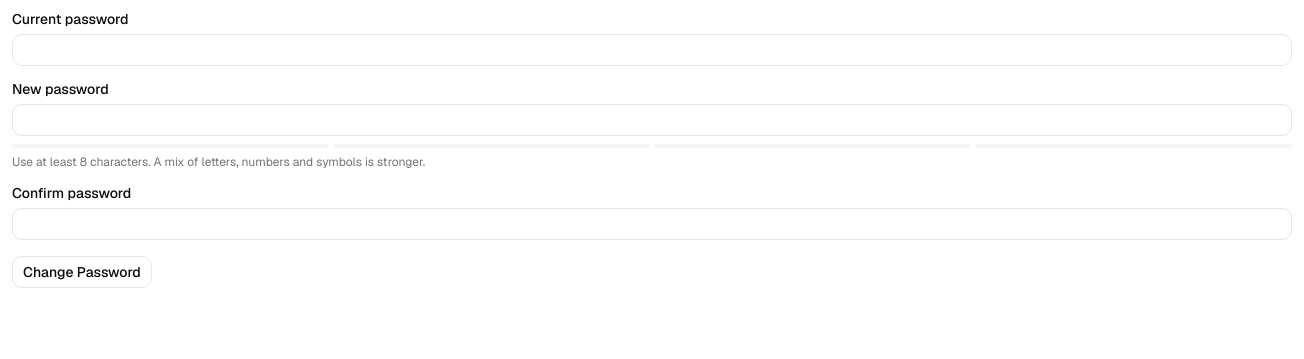
Test case: ChangePasswordForm (us-11) › clears the new password after it is changed
Step 1. Type "oldpassword" into the password field labelled "Current password" → x=652, y=50, box [12,34,1292,66]
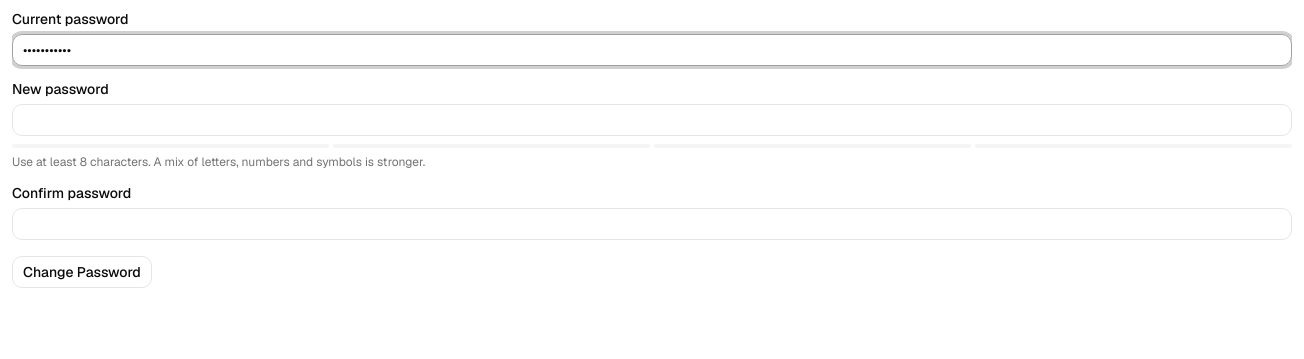
Step 2. Type "newpassword1" into the password field labelled "New password" → x=652, y=120, box [12,104,1292,136]
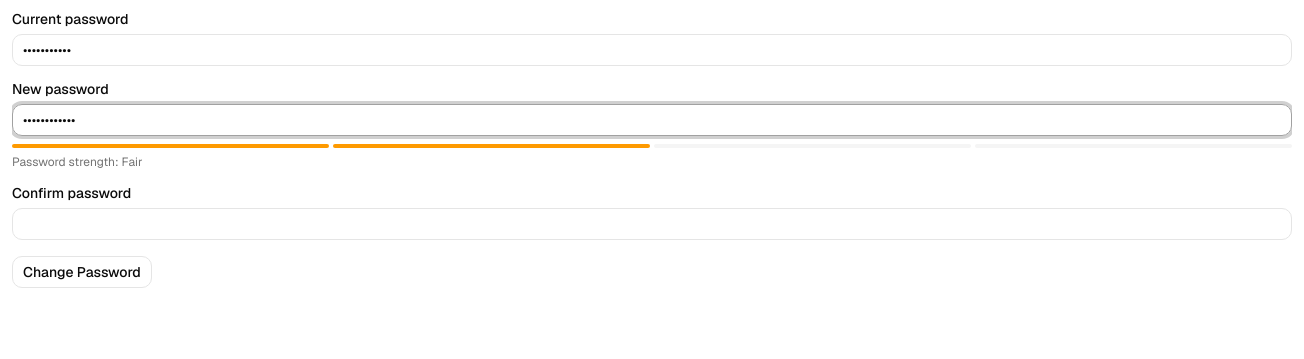
Step 3. Type "newpassword1" into the password field labelled "Confirm password" → x=652, y=224, box [12,208,1292,240]
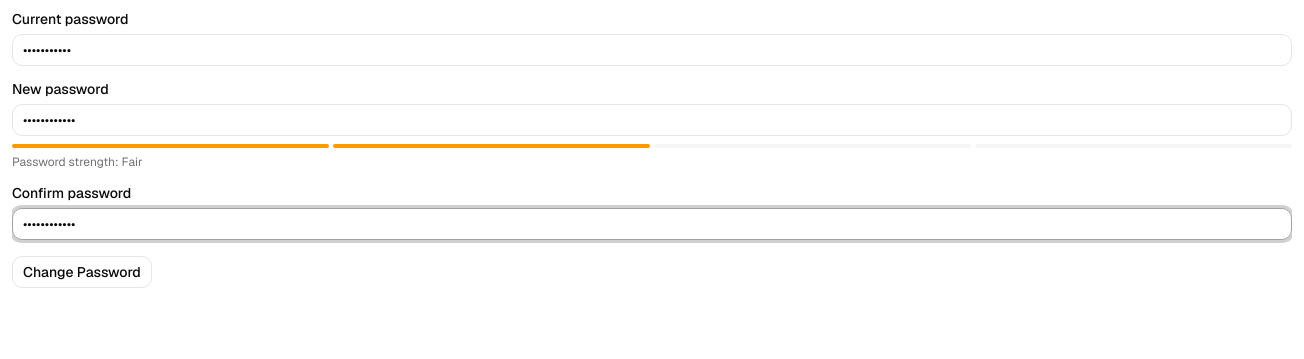
Step 4. Click the button "Change Password" → x=82, y=272, box [12,256,152,288]
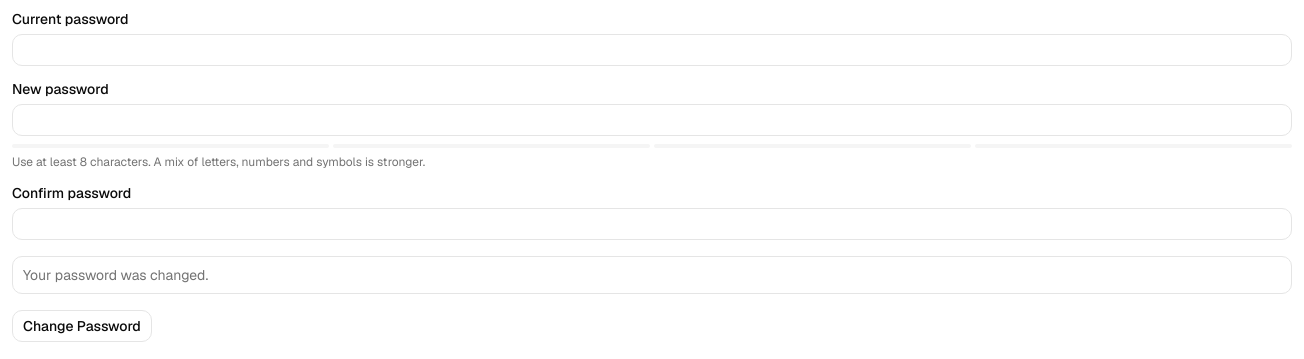
Expected: the text "Your password was changed." is shown, [23,266,208,284]
Expected: the password field labelled "New password" is empty, [12,104,1292,136]
